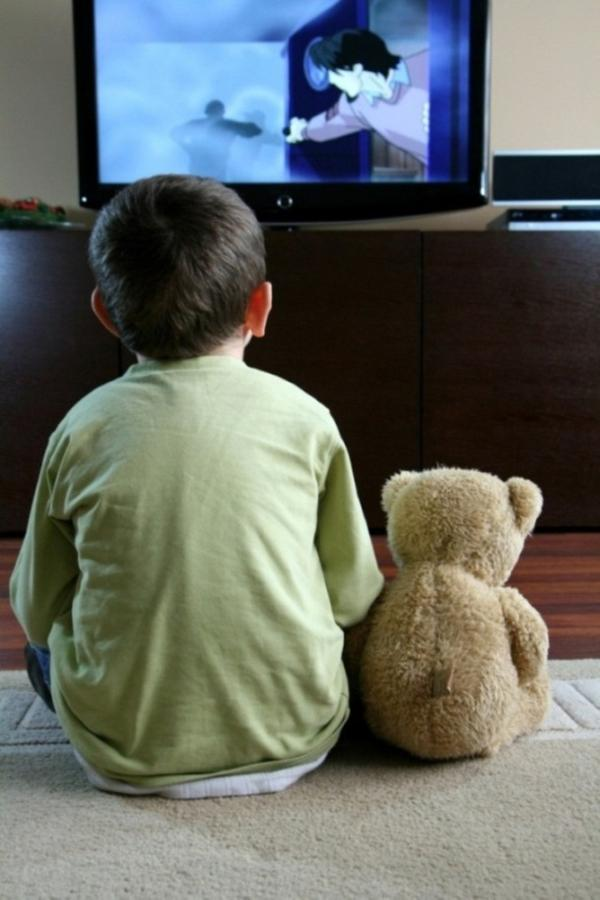person: (10, 172, 381, 799)
